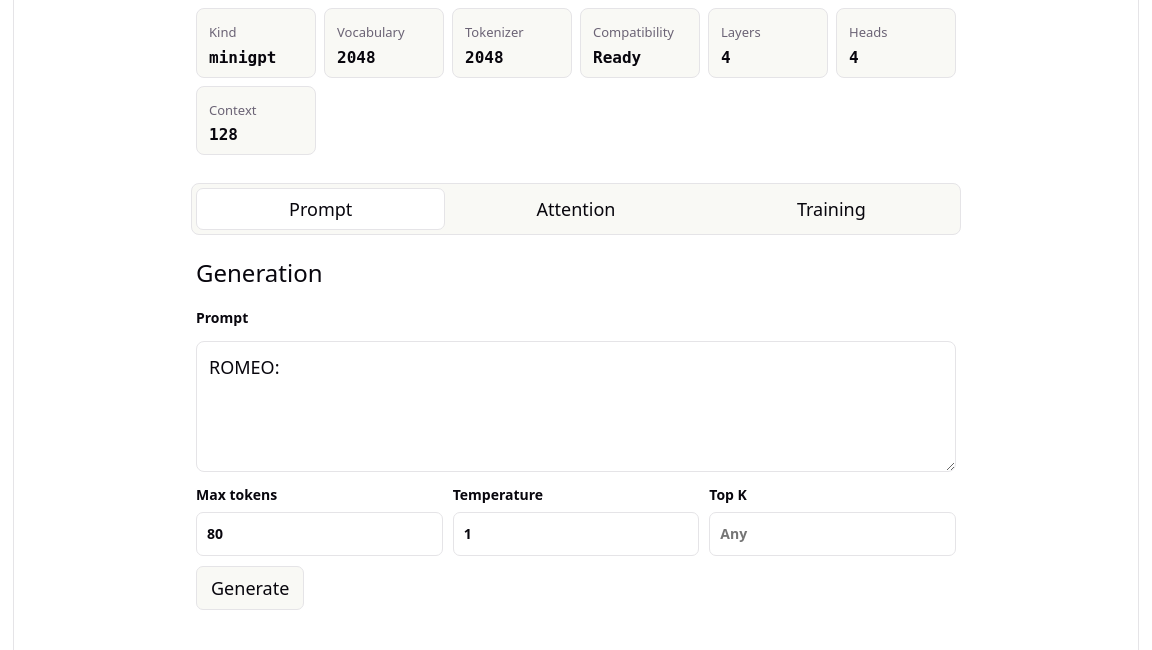
Test: attention UI behavior › does not dim the heatmap when the selected token is outside the attention context window
(page scrolled)
Step 1. Click the button "Generate" → (250, 588), box top-left (196, 566), bottom-right (304, 610)
(page scrolled)
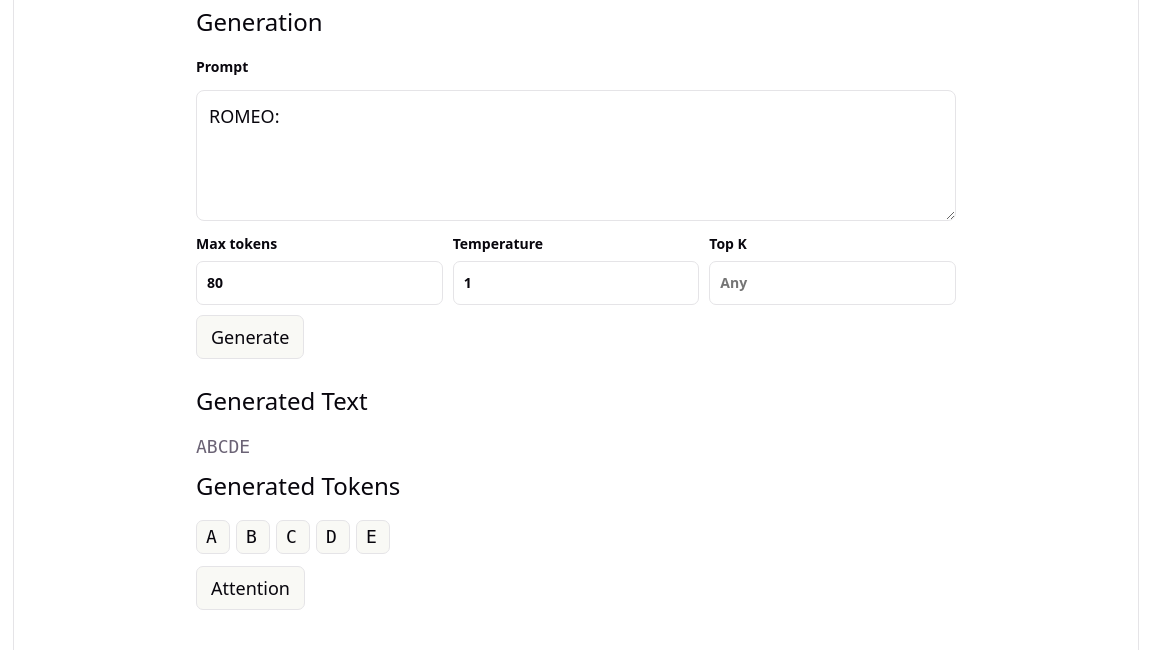
Expected: the text "ABCDE" is shown, top-left (196, 436), bottom-right (250, 457)
Step 2. Click the button "B" → (253, 537), box top-left (236, 520), bottom-right (270, 554)
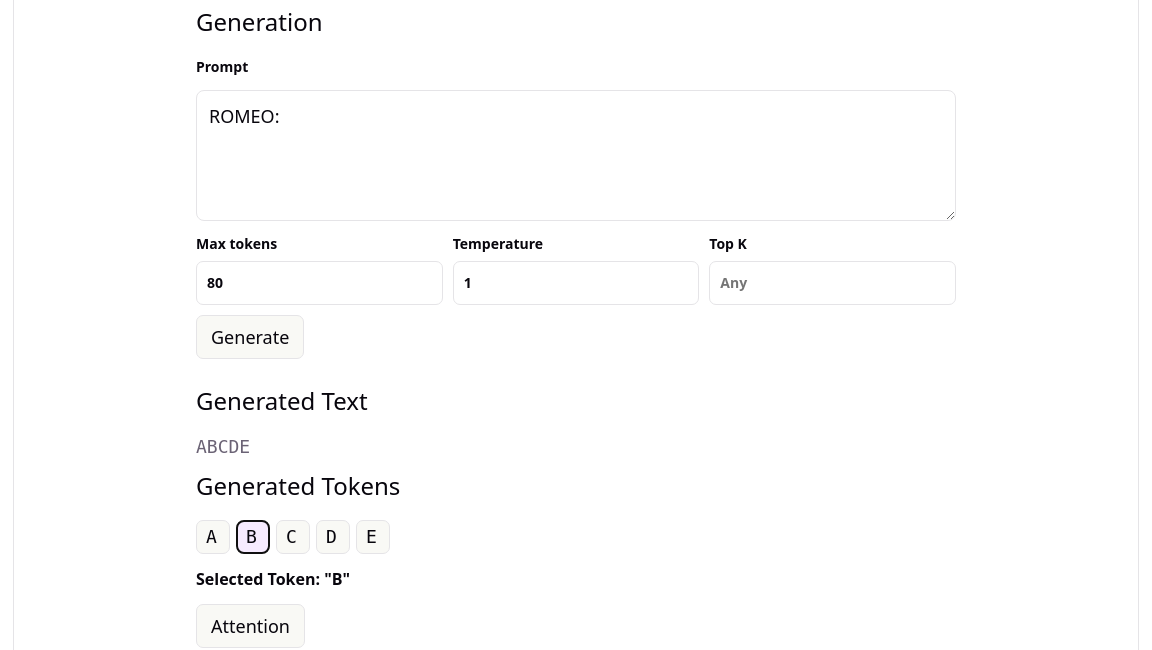
Step 3. Click the button "Attention" → (250, 626), box top-left (196, 604), bottom-right (305, 648)
(page scrolled)
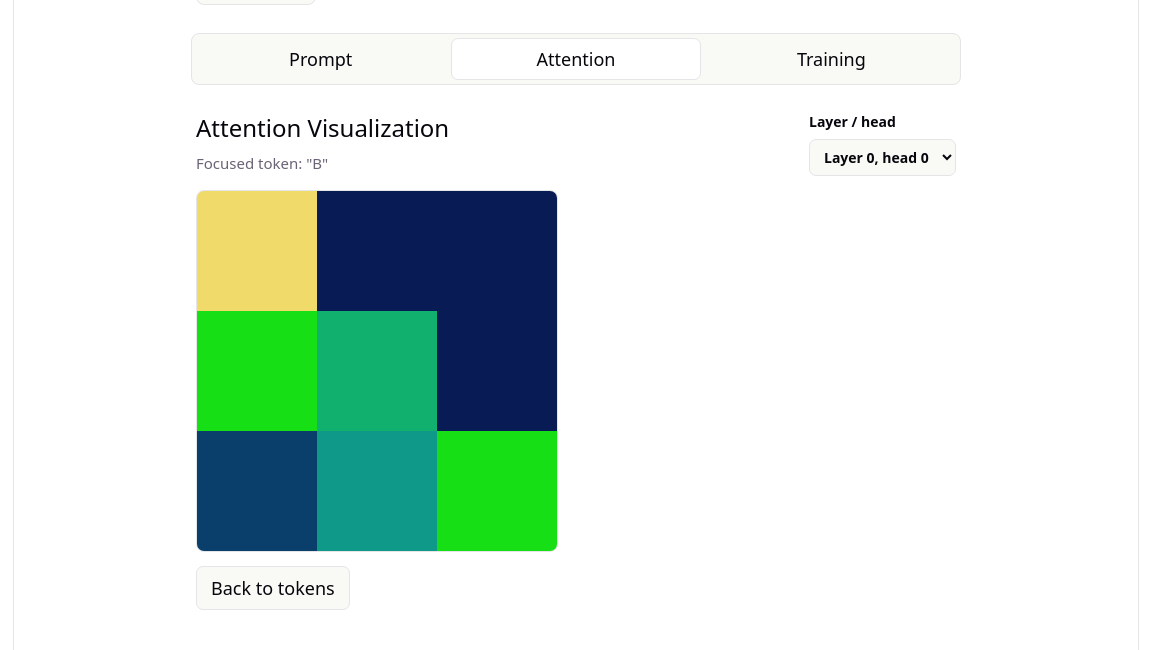
Expected: the text "Focused token: \"B\"" is shown, top-left (196, 153), bottom-right (328, 173)
